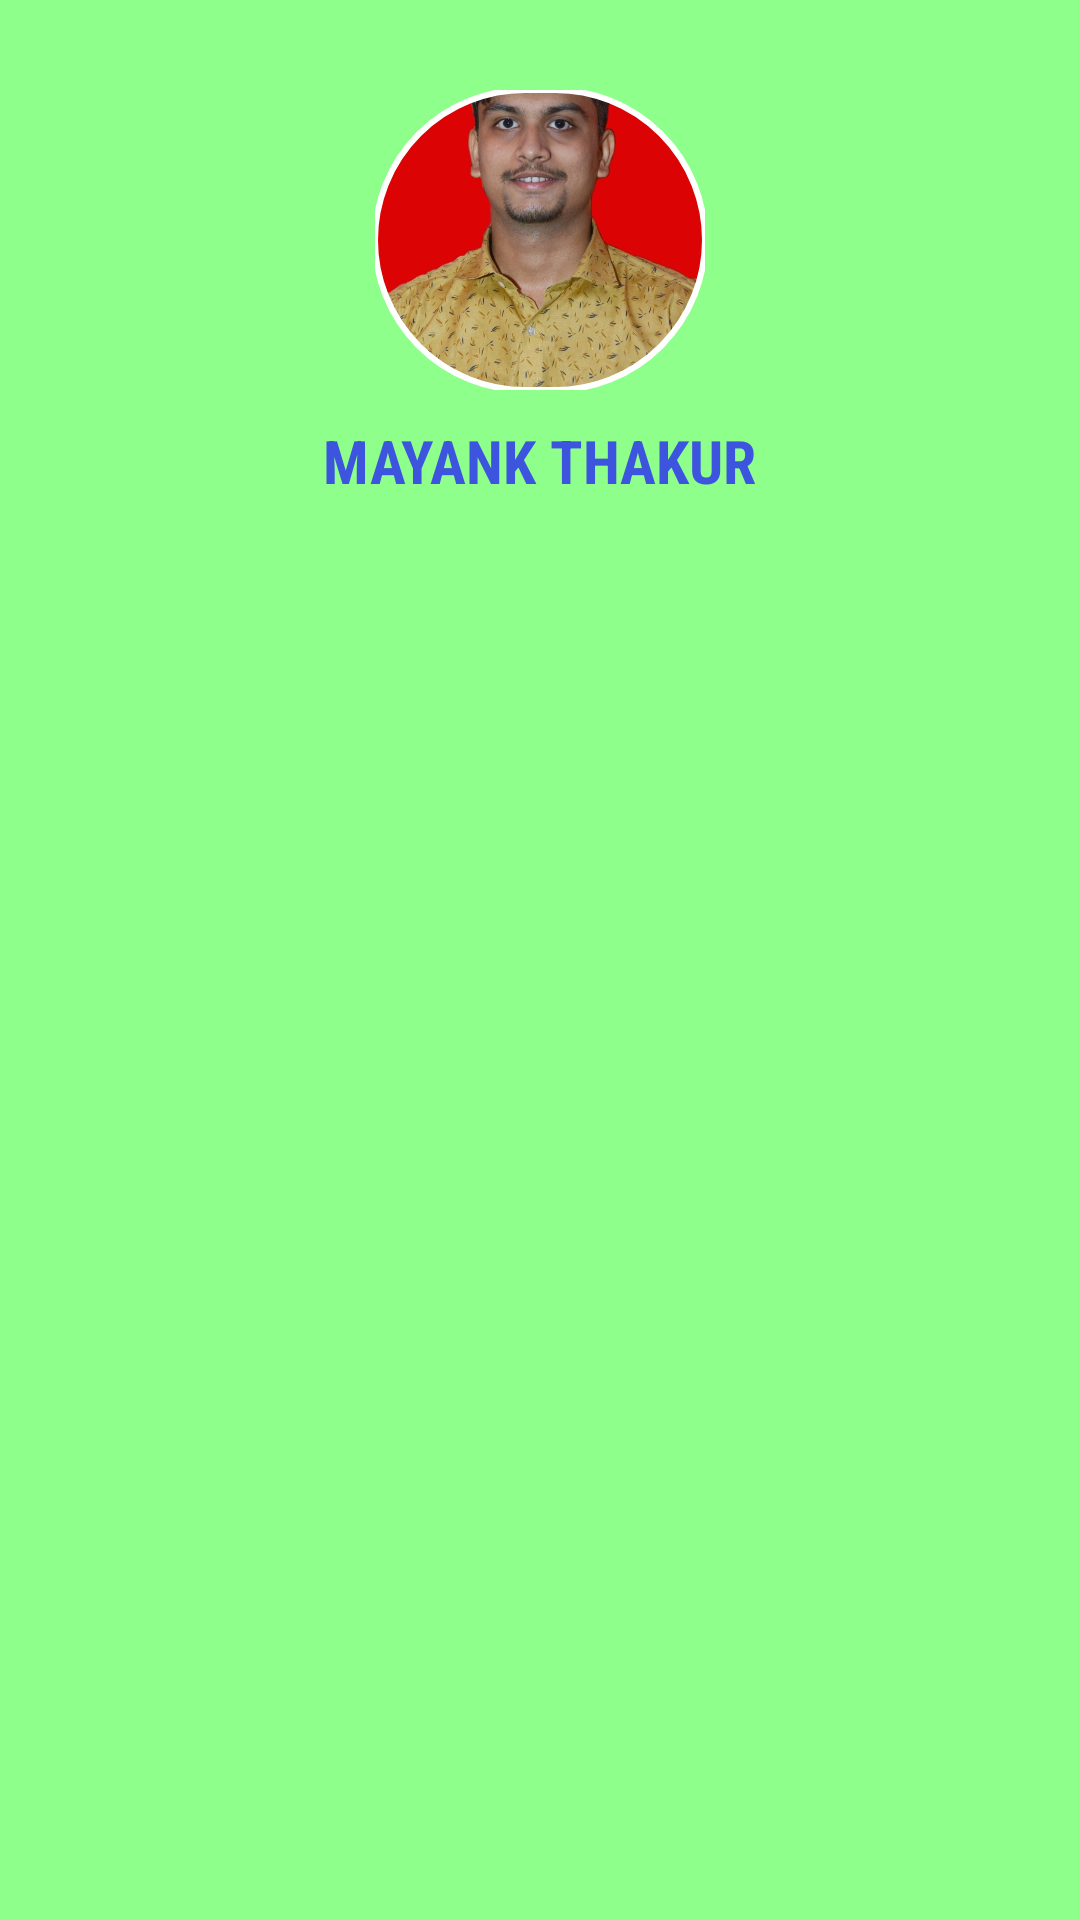

Icon click points for this 1080 × 1920 phone screenshot, format (x,y):
profile: (540,240)
